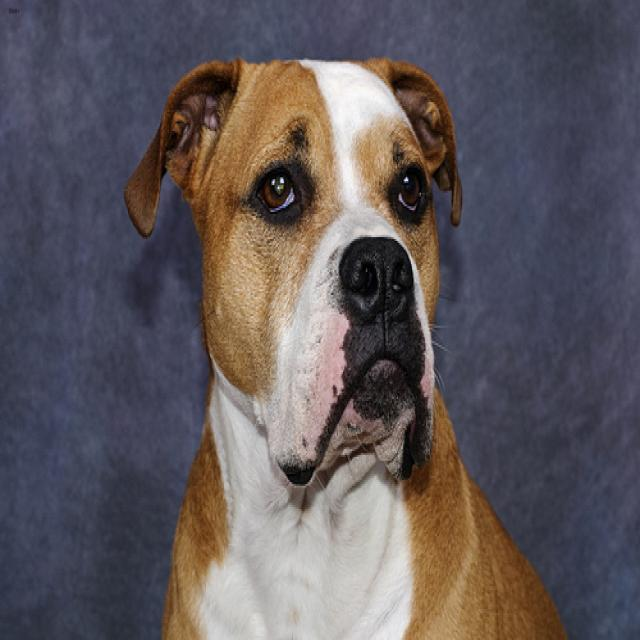dog-american_bulldog: (114, 39, 577, 636)
